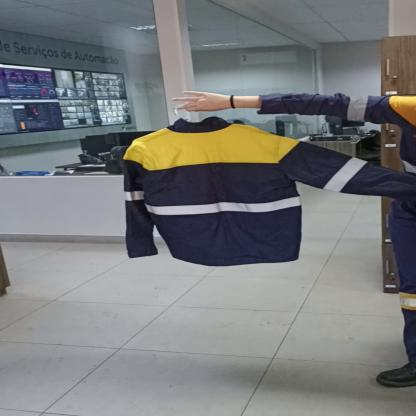C_eletrica: (115, 119, 416, 270)
